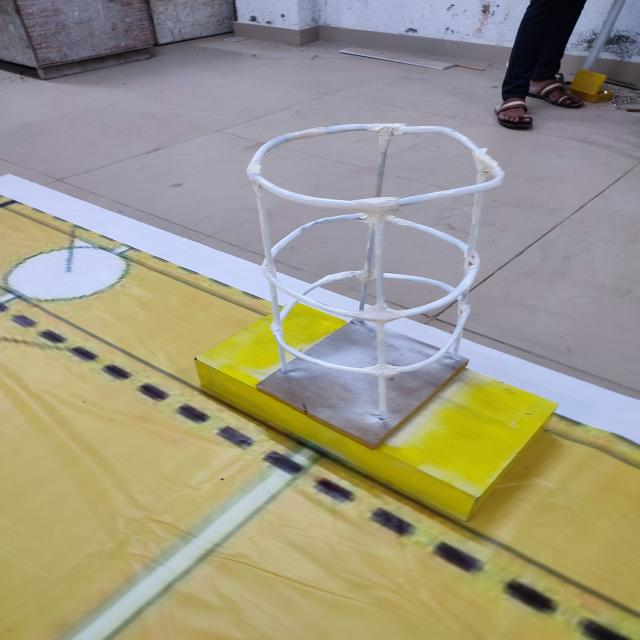silo: (239, 122, 515, 428)
